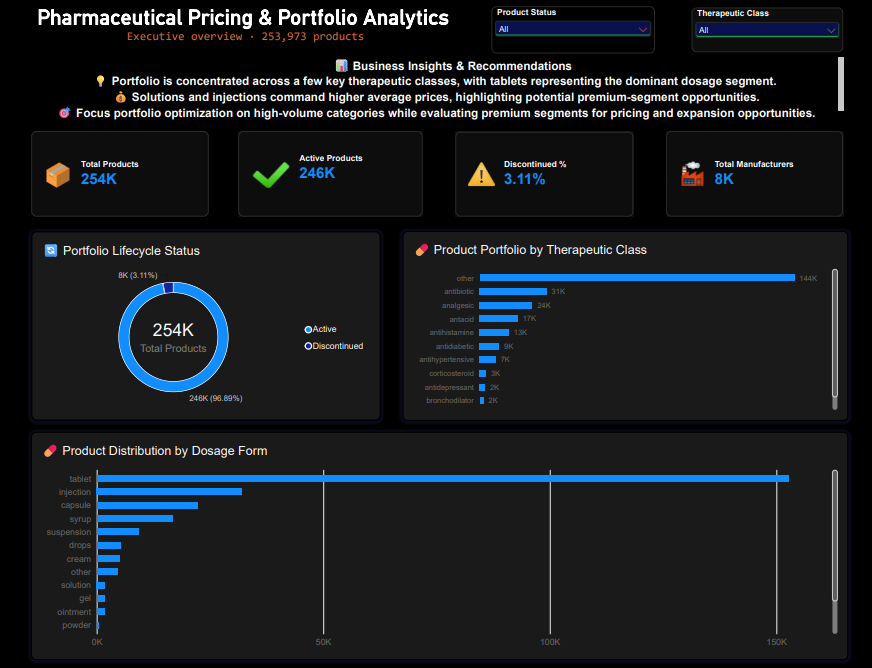

What the dashboard file says about the page in this screenshot:
{"tool":"powerbi","page":{"name":"01_Executive_Overview","canvas":[1920,1080],"ordinal":0},"visuals":[{"type":"cardVisual","fields":{"Data":["KPI_Measures.Total Products"]},"box":[304,214,284,137],"z":0},{"type":"cardVisual","fields":{"Data":["KPI_Measures.Active Products"]},"box":[635,214,295,137],"z":1000},{"type":"cardVisual","fields":{"Data":["KPI_Measures.Discontinued %"]},"box":[982,215,285,136],"z":2000},{"type":"textbox","box":[304,13,678,60],"z":3000},{"type":"clusteredBarChart","title":"💊 Product Portfolio by Therapeutic Class","fields":{"Category":["Pharma_Products.Therapeutic_class"],"Y":["KPI_Measures.Total Products"]},"box":[898,374,712,303],"z":4000},{"type":"donutChart","title":"🔄 Portfolio Lifecycle Status","fields":{"Category":["Pharma_Products.Is_discontinued","Pharma_Products.Product_Status"],"Y":["KPI_Measures.Total Products"]},"box":[304,374,559,303],"z":5000},{"type":"clusteredBarChart","title":"💊 Product Distribution by Dosage Form","fields":{"Category":["Pharma_Products.Dosage_form"],"Y":["KPI_Measures.Total Products"]},"box":[304,695,1306,364],"z":6000},{"type":"slicer","fields":{"Values":["Pharma_Products.Product_Status"]},"box":[1040,15,261,75],"z":7000},{"type":"slicer","fields":{"Values":["Pharma_Products.Therapeutic_class"]},"box":[1360,17,242,71],"z":8000},{"type":"cardVisual","fields":{"Data":["KPI_Measures.Total Manufacturers"]},"box":[1319,214,283,137],"z":9000},{"type":"textbox","box":[1460,126,460,106],"z":9001},{"type":"textbox","box":[304,96,1298,100],"z":9002}]}

Visuals, with their boxes on the page's 1920x1080 design canvas (x1, y1, x2, y2). These are canvas units, not pixel positions in the 872x668 screenshot, which may show the page scaled, cropped or inside an application window:
cardVisual - KPI_Measures.Total Products: <bbox>304, 214, 588, 351</bbox>
cardVisual - KPI_Measures.Active Products: <bbox>635, 214, 930, 351</bbox>
cardVisual - KPI_Measures.Discontinued %: <bbox>982, 215, 1267, 351</bbox>
textbox: <bbox>304, 13, 982, 73</bbox>
"💊 Product Portfolio by Therapeutic Class" clusteredBarChart: <bbox>898, 374, 1610, 677</bbox>
"🔄 Portfolio Lifecycle Status" donutChart: <bbox>304, 374, 863, 677</bbox>
"💊 Product Distribution by Dosage Form" clusteredBarChart: <bbox>304, 695, 1610, 1059</bbox>
slicer - Pharma_Products.Product_Status: <bbox>1040, 15, 1301, 90</bbox>
slicer - Pharma_Products.Therapeutic_class: <bbox>1360, 17, 1602, 88</bbox>
cardVisual - KPI_Measures.Total Manufacturers: <bbox>1319, 214, 1602, 351</bbox>
textbox: <bbox>1460, 126, 1920, 232</bbox>
textbox: <bbox>304, 96, 1602, 196</bbox>
